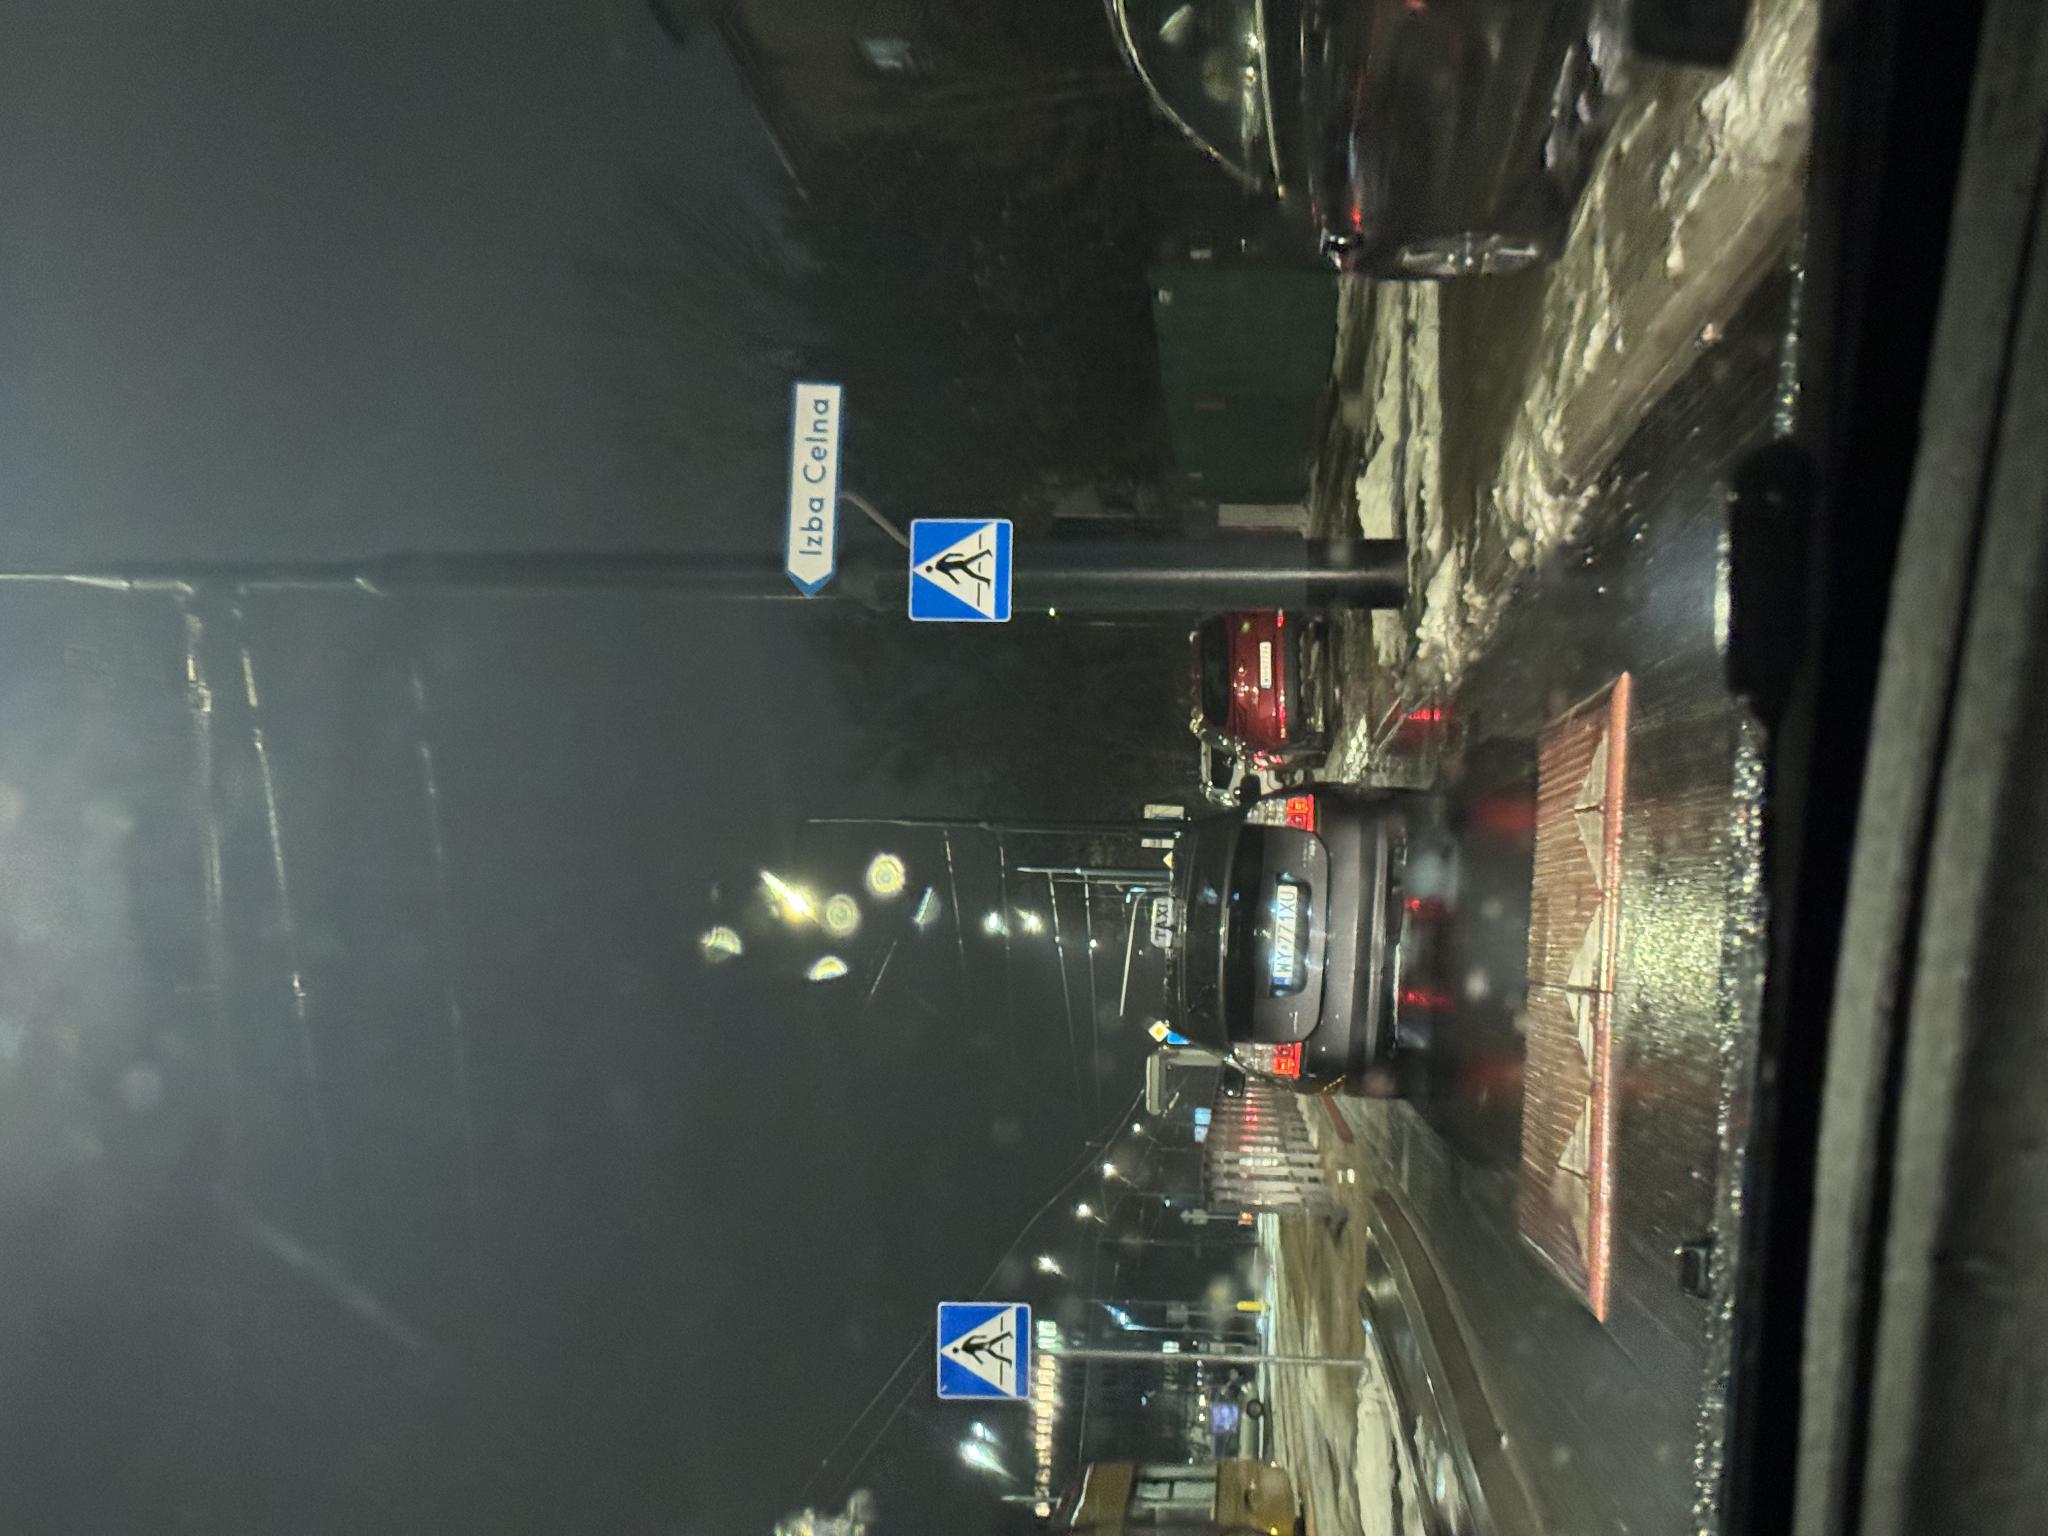direction-city: (943, 783, 1156, 842)
information: (913, 907, 1021, 1012), (135, 934, 239, 1033)
